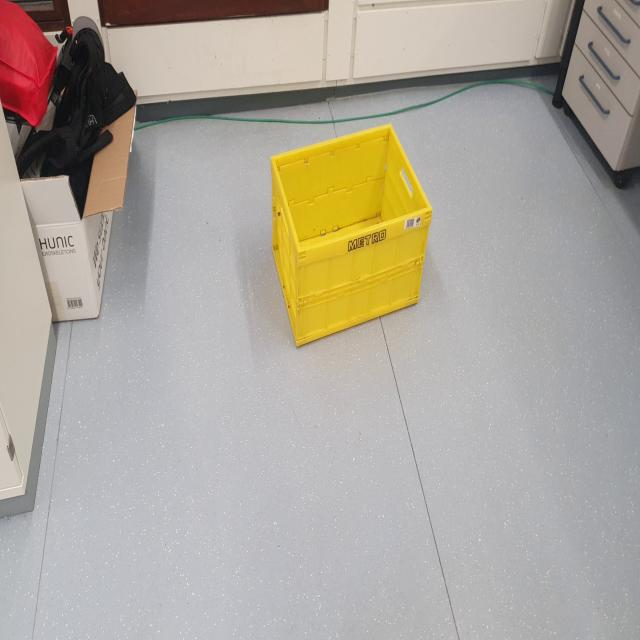box: (264, 115, 436, 378)
